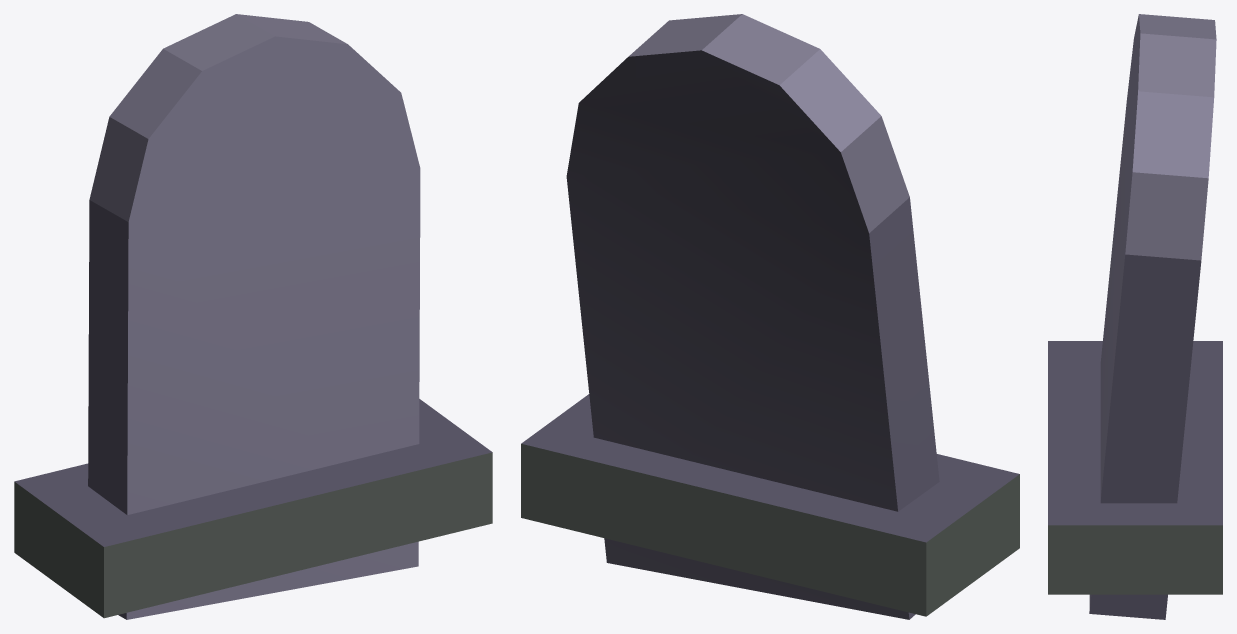
Rendered from Gravestone_A.fbx.
3 renders of one model, left to right at view 1: azimuth 30°, elevation 25°; view 2: azimuth 150°, elevation 25°; view 3: azimuth 270°, elevation 25°, orthographic. The views are drawn at different scales.
Parts seen in each view (by area): view 1: Gravestone_A; view 2: Gravestone_A; view 3: Gravestone_A.
Part boxes in pixels (bbox=[...]): Gravestone_A: bbox=[14, 14, 492, 619]; Gravestone_A: bbox=[521, 14, 1019, 619]; Gravestone_A: bbox=[1048, 14, 1222, 619].
Size of the model in its own units: 0.8 by 1.07 by 0.32.
